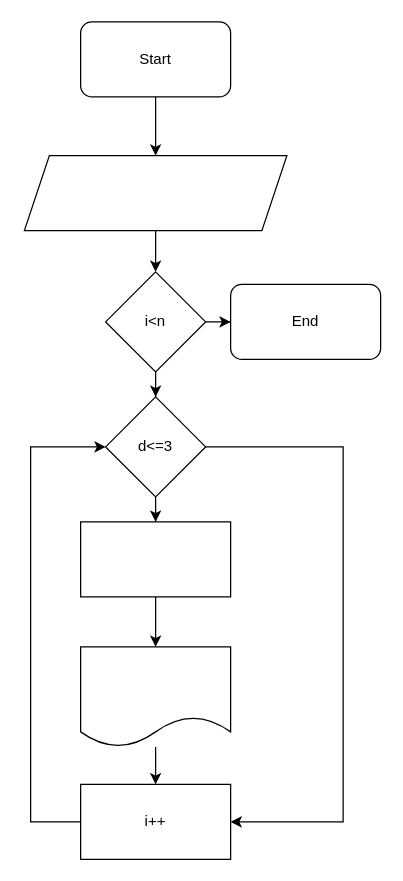
This 403x881 diagram has some shape labels left out. Each missing label, with the centre of its shape:
arr i: the point at 155,696
array i = arr i: the point at 155,559
создаем массив array n - кол-во элем массива d - длина array i = 0: the point at 155,192
